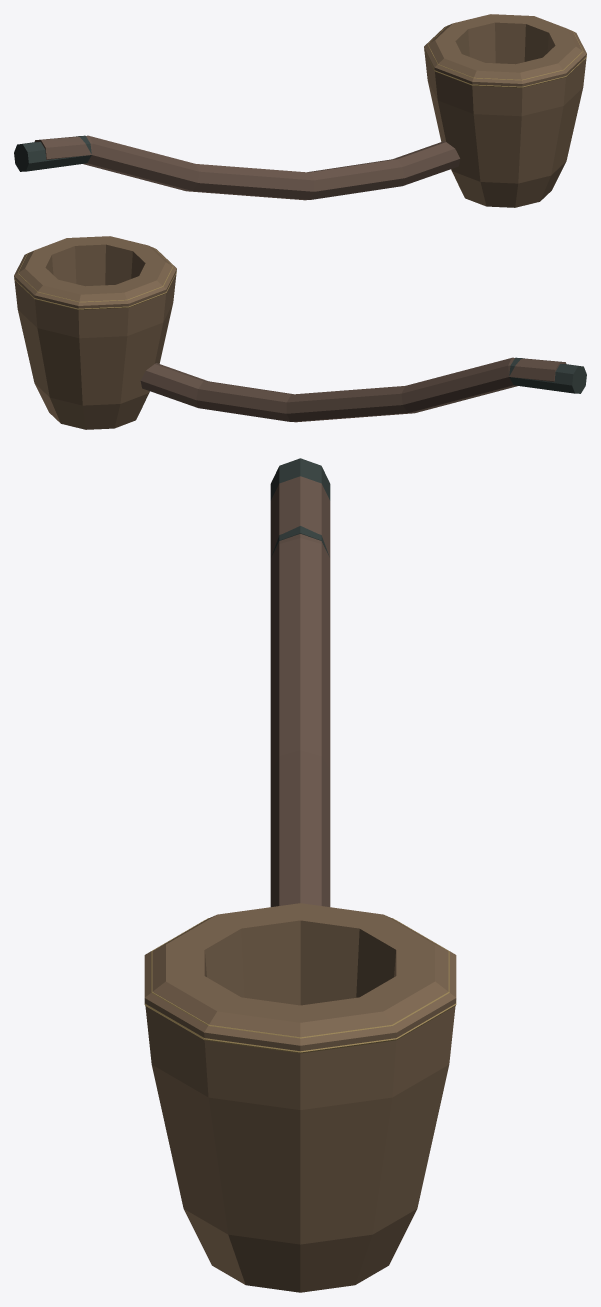
The model's file is SWP_BentWoodPipe.fbx.
3 renders of one model, top to bottom at view 1: azimuth 30°, elevation 25°; view 2: azimuth 150°, elevation 25°; view 3: azimuth 270°, elevation 25°, orthographic. The views are drawn at different scales.
Visible parts, largest first — view 1: SWP_BentWoodPipe; view 2: SWP_BentWoodPipe; view 3: SWP_BentWoodPipe.
Boxes of the visible parts, left/top/right/bottom form: SWP_BentWoodPipe: left=14, top=14, right=586, bottom=207; SWP_BentWoodPipe: left=14, top=236, right=586, bottom=429; SWP_BentWoodPipe: left=144, top=458, right=456, bottom=1292.
Bounding box in the file's own units: 0.3448 × 0.096 × 0.0837.
